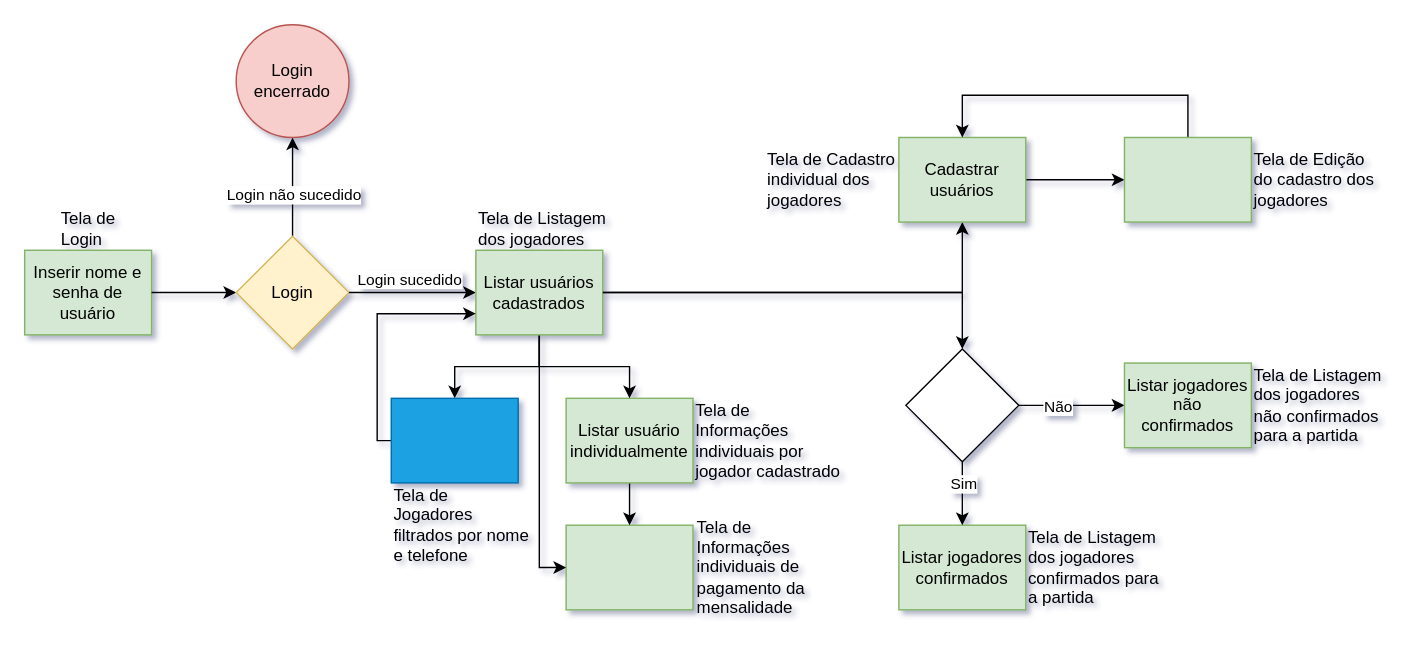
Image size: 1426x651. Some labels were removed from this diagram. The shapes that lost their labels are listed below. From the top down, each one's centre as x and y in pixels, then its label:
At [1187,179]: "Editar usuários".
At [962,405]: "Jogador confirmado".
At [454,440]: "Filtrar usuários cadastrados".
At [629,567]: "Exibir Histórico de Pagamentos".
